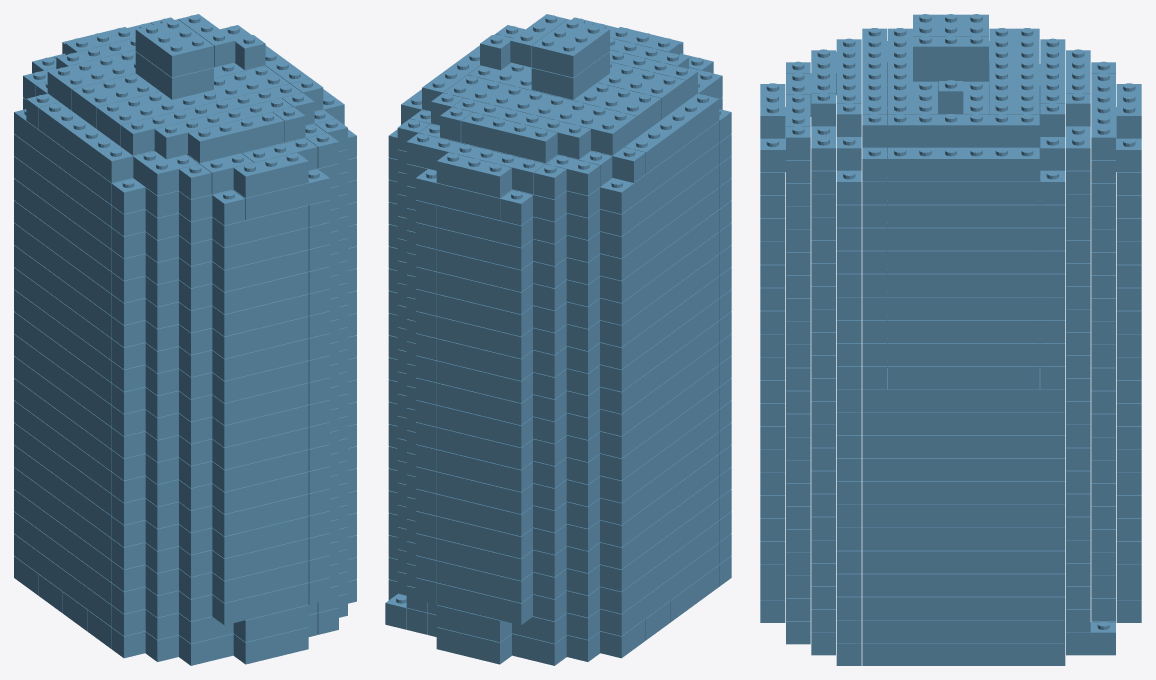
The model's file is 135_camera_L5.glb.
3 renders of one model, left to right at view 1: azimuth 30°, elevation 25°; view 2: azimuth 150°, elevation 25°; view 3: azimuth 270°, elevation 25°, orthographic. The views are drawn at different scales.
Bounding box in the file's own units: 10.98 × 25.13 × 14.98.
